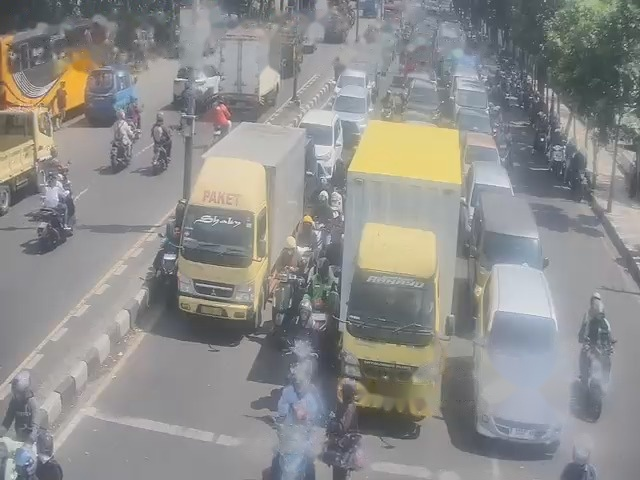Bis: (0, 16, 111, 126)
Mobil: (471, 267, 559, 446), (473, 195, 549, 276), (459, 162, 513, 249), (85, 65, 138, 124), (299, 109, 342, 179), (332, 85, 372, 147), (463, 132, 500, 166), (455, 108, 492, 134), (336, 68, 372, 94)
Motor: (269, 340, 322, 479), (320, 412, 363, 479), (581, 339, 615, 420), (272, 271, 306, 348), (321, 433, 363, 479), (154, 233, 178, 304), (37, 208, 71, 251), (293, 340, 313, 391), (316, 263, 334, 311), (110, 140, 131, 171), (569, 170, 590, 201), (548, 144, 566, 180), (310, 312, 327, 349), (152, 144, 168, 174), (532, 129, 547, 153), (127, 118, 140, 141), (212, 127, 225, 144), (381, 106, 393, 120)
Truk: (345, 108, 460, 434), (182, 132, 306, 324), (214, 24, 280, 121), (0, 107, 57, 215)
